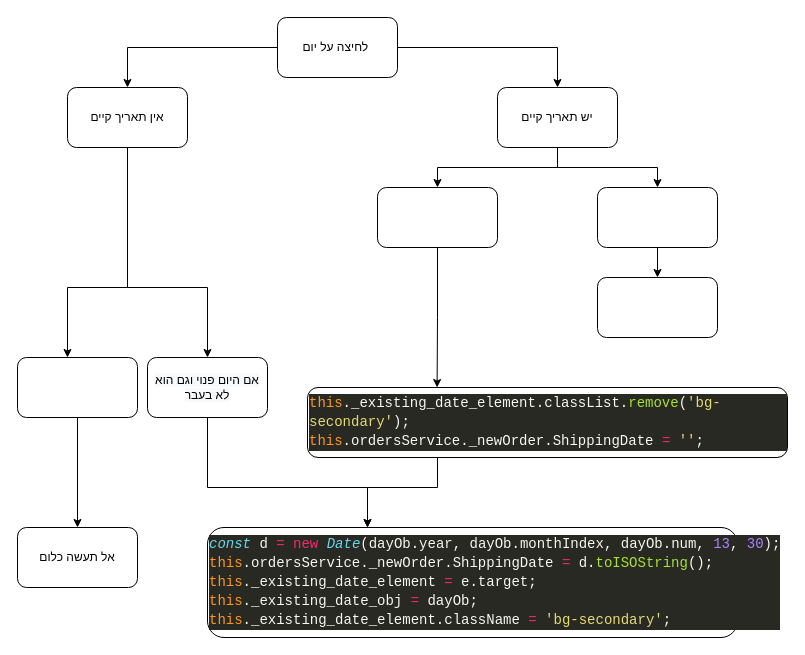
Some shapes in this 805 by 655 pixel diagram are drawn without their labels. Each missing label, with the box of its shape:
אם היום לא פנוי או שהוא בעבר: (16, 356, 138, 418)
התאריך הקיים הוא לא של התאריך הנוכחי: (376, 186, 498, 248)
התאריך הקיים הוא של התאריך הנוכחי: (596, 186, 718, 248)
